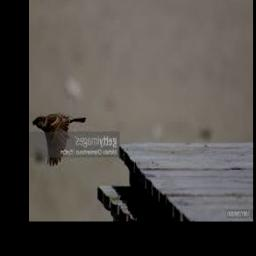Sparrow: (32, 115, 87, 166)
